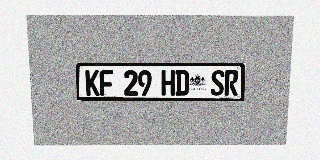2: (124, 70, 138, 96)
9: (138, 70, 152, 96)
D: (175, 70, 189, 96)
F: (99, 70, 113, 96)
H: (161, 70, 175, 96)
K: (85, 70, 100, 96)
R: (224, 70, 238, 96)
S: (210, 70, 225, 96)
